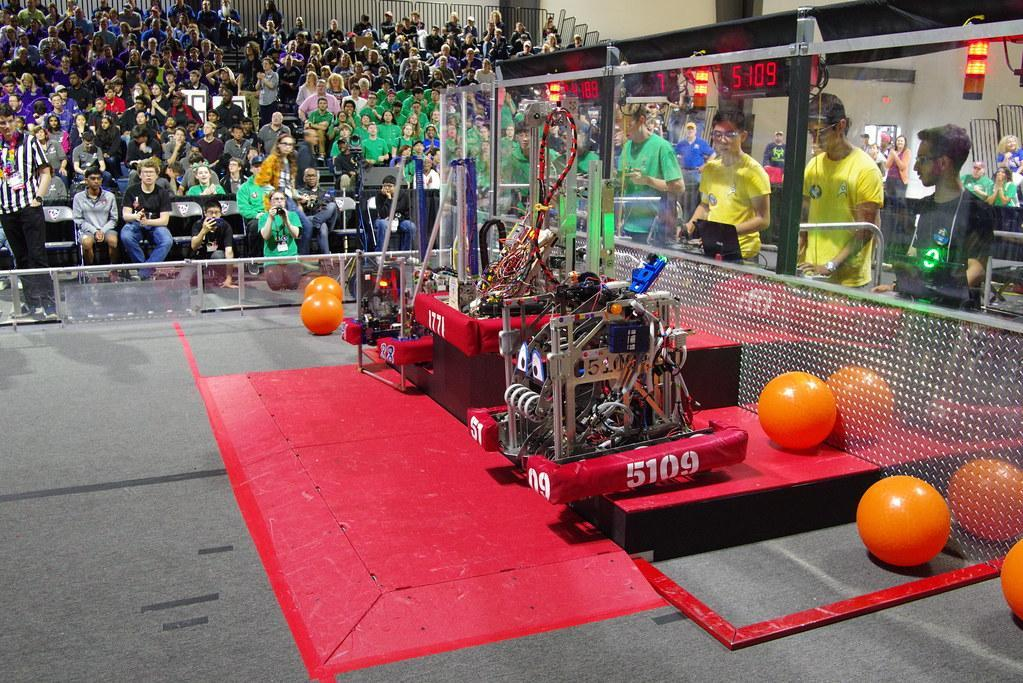robot: (465, 138, 754, 515), (415, 125, 624, 362), (337, 207, 521, 380)
